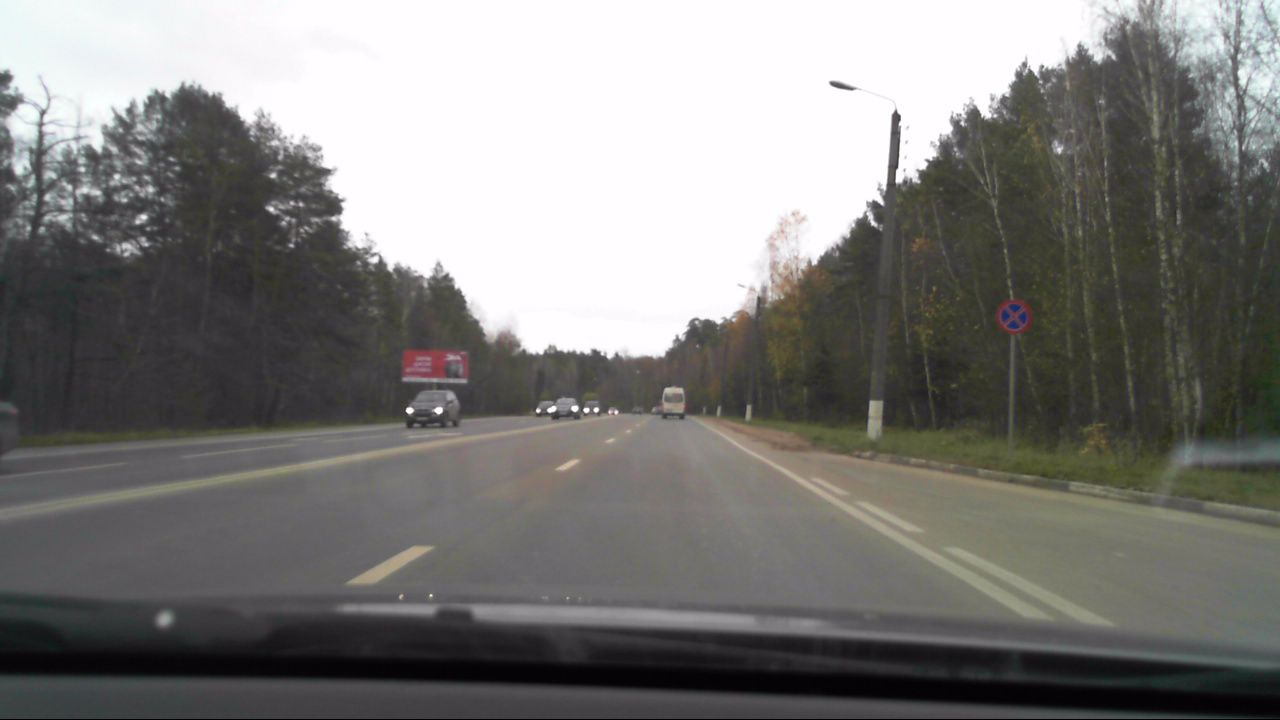No Parking: (995, 299, 1029, 333)
